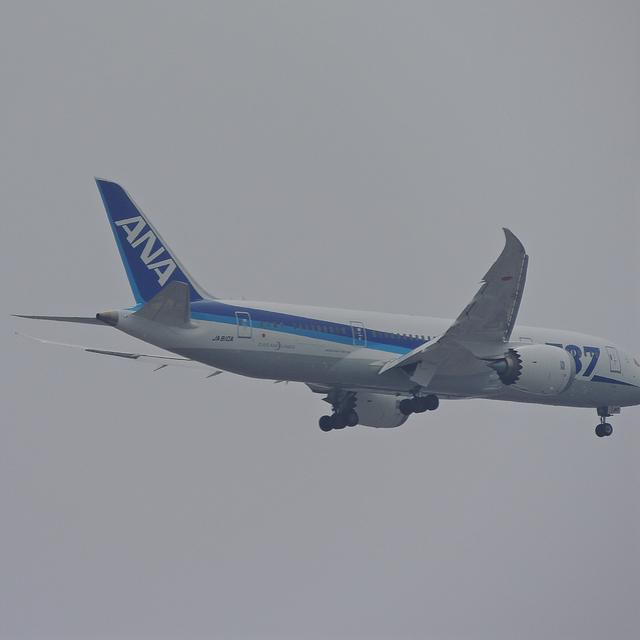airplane: (6, 177, 640, 439)
